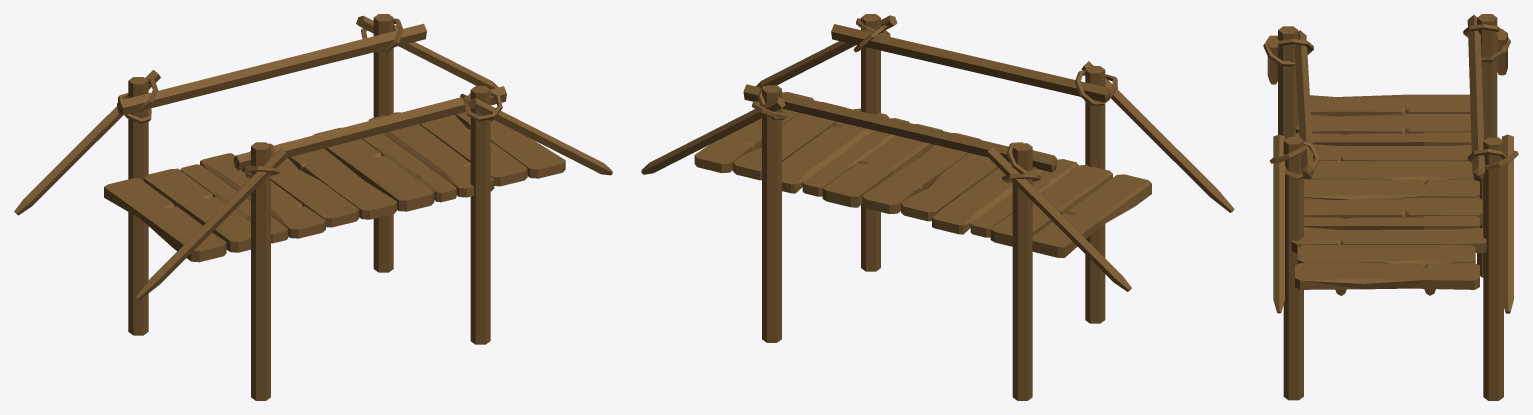
The picture shows the model from 3 angles, left to right: view 1: azimuth 30°, elevation 25°; view 2: azimuth 150°, elevation 25°; view 3: azimuth 270°, elevation 25°; orthographic projection. The views are drawn at different scales.
Parts seen in each view (by area): view 1: qiao; view 2: qiao; view 3: qiao.
Part boxes in pixels (x1,y1,x2,y2): qiao: (14,14,612,400); qiao: (641,14,1234,400); qiao: (1263,14,1518,400).
Bounding box in the file's own units: 584 × 287 × 260.
